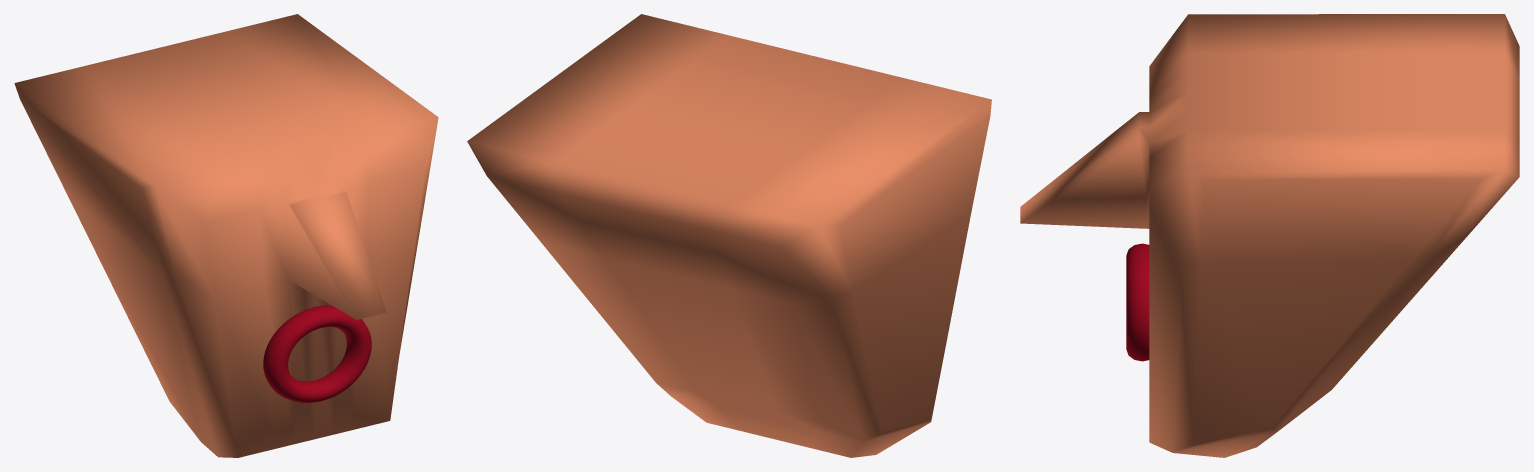
The model's file is translate_mouth.gltf.
3 renders of one model, left to right at view 1: azimuth 30°, elevation 25°; view 2: azimuth 150°, elevation 25°; view 3: azimuth 270°, elevation 25°, orthographic. The views are drawn at different scales.
Visible parts, largest first — view 1: Cube, トーラス; view 2: Cube; view 3: Cube, トーラス.
Part boxes in pixels (x1,y1,x2,y2): Cube: (14,14,438,457); トーラス: (263,305,371,402); Cube: (467,14,991,457); Cube: (1020,14,1519,457); トーラス: (1126,243,1149,361).
Size of the model in its own units: 3.62 by 3.45 by 4.71.
